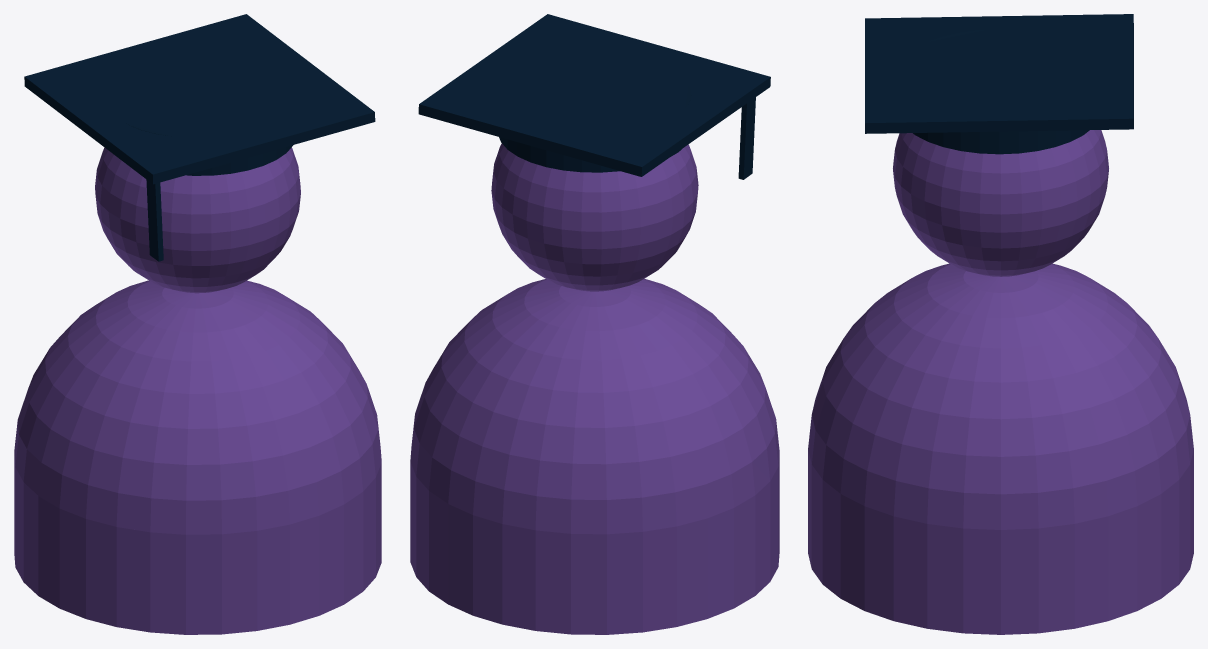
File: etudiant6.glb
The picture shows the model from 3 angles, left to right: view 1: azimuth 30°, elevation 25°; view 2: azimuth 150°, elevation 25°; view 3: azimuth 270°, elevation 25°; orthographic projection. The views are drawn at different scales.
Parts seen in each view (by area): view 1: Sphere, Cylinder, Cube, Sphere.001, Cylinder.001, Cube.001; view 2: Sphere, Cylinder, Cube, Sphere.001, Cylinder.001, Cube.001; view 3: Sphere, Cylinder, Cube, Sphere.001, Cylinder.001.
Part boxes in pixels (x1,y1,x2,y2): Sphere: [14, 280, 381, 534]; Cylinder: [14, 456, 381, 634]; Cube: [24, 14, 375, 184]; Sphere.001: [95, 147, 300, 293]; Cylinder.001: [125, 123, 293, 175]; Cube.001: [146, 179, 163, 261]; Sphere: [410, 278, 779, 534]; Cylinder: [410, 453, 779, 634]; Cube: [418, 14, 770, 176]; Sphere.001: [491, 143, 698, 291]; Cylinder.001: [499, 84, 691, 172]; Cube.001: [738, 97, 755, 179]; Sphere: [808, 263, 1193, 529]; Cylinder: [808, 449, 1193, 634]; Cube: [865, 14, 1133, 133]; Sphere.001: [893, 130, 1108, 276]; Cylinder.001: [913, 30, 1089, 154].
Bounding box in the file's own units: 0.7942 × 1.12 × 0.7942.
